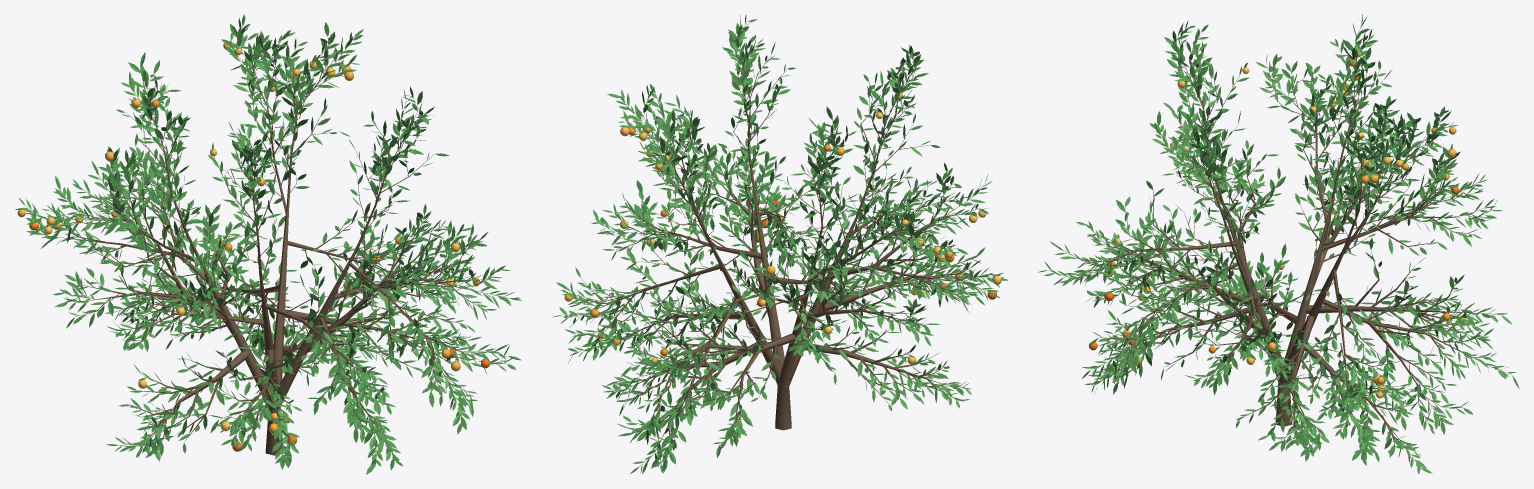
The model's file is pecher_jaune_ete.glb.
The picture shows the model from 3 angles, left to right: view 1: azimuth 30°, elevation 25°; view 2: azimuth 150°, elevation 25°; view 3: azimuth 270°, elevation 25°; orthographic projection. The views are drawn at different scales.
Parts seen in each view (by area): view 1: Pecher_Feuillage, Pecher_Tronc, Pecher_Peches; view 2: Pecher_Feuillage, Pecher_Tronc, Pecher_Peches; view 3: Pecher_Feuillage, Pecher_Tronc, Pecher_Peches.
Boxes of the visible parts, bbox=[...] form: Pecher_Feuillage: bbox=[15, 14, 522, 474]; Pecher_Tronc: bbox=[26, 27, 510, 460]; Pecher_Peches: bbox=[17, 43, 489, 451]; Pecher_Feuillage: bbox=[552, 15, 1008, 473]; Pecher_Tronc: bbox=[564, 22, 992, 465]; Pecher_Peches: bbox=[564, 93, 1001, 364]; Pecher_Feuillage: bbox=[1038, 14, 1519, 474]; Pecher_Tronc: bbox=[1049, 25, 1511, 462]; Pecher_Peches: bbox=[1089, 50, 1466, 398].
Size of the model in its own units: 5.9 by 5.29 by 6.02.
